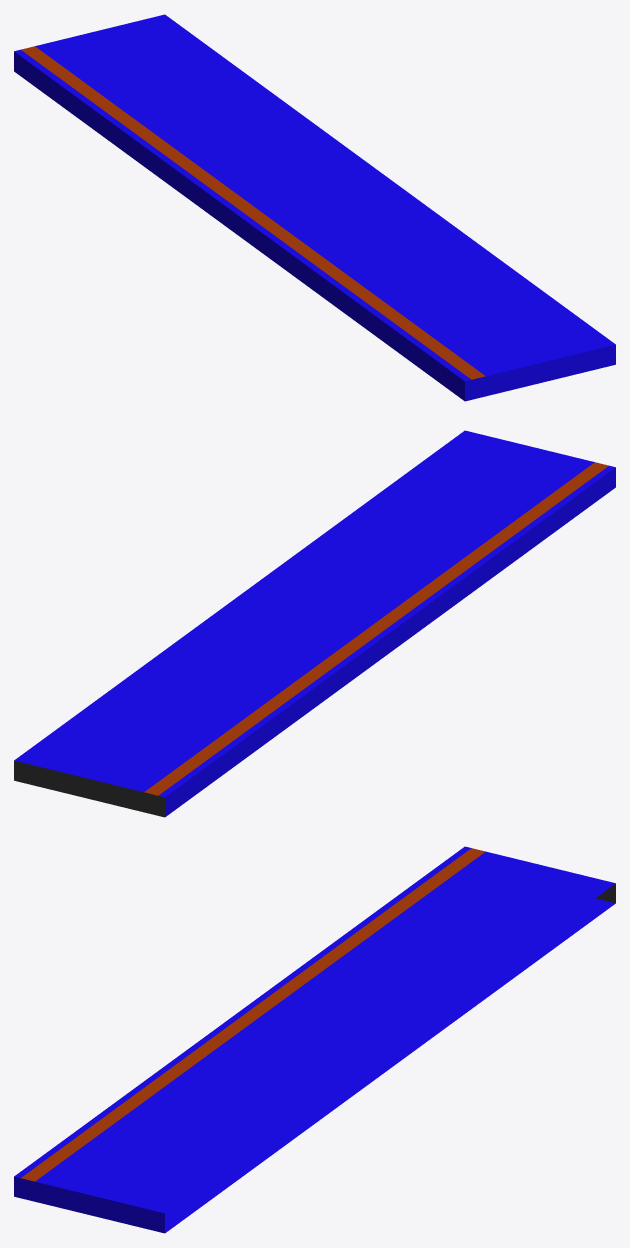
Rendered from Balda.fbx.
3 views of the same model, one above another, from view 1: azimuth 30°, elevation 25°; view 2: azimuth 150°, elevation 25°; view 3: azimuth 330°, elevation 25° (orthographic).
Visible parts, largest first — view 1: Balda; view 2: Balda; view 3: Balda.
Boxes of the visible parts, <box> form: Balda: <box>14,14,615,401</box>; Balda: <box>14,430,615,817</box>; Balda: <box>14,846,615,1233</box>.
Bounding box in the file's own units: 63.65 × 8.1 × 329.
